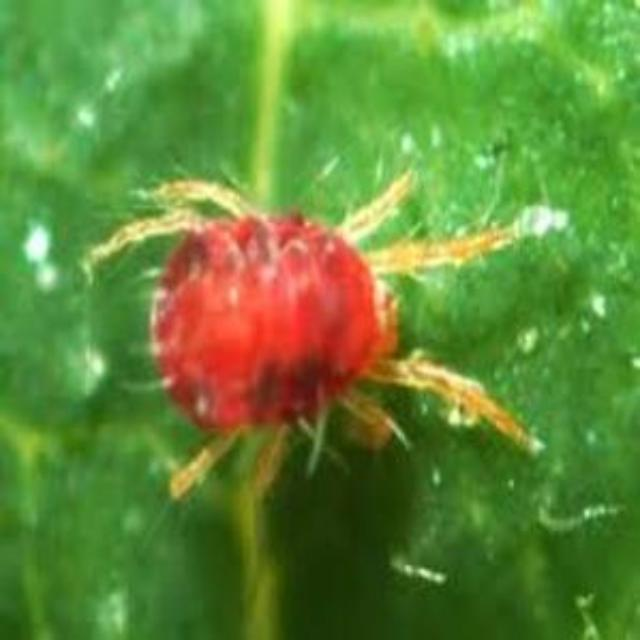spider mite: (86, 140, 556, 540)
